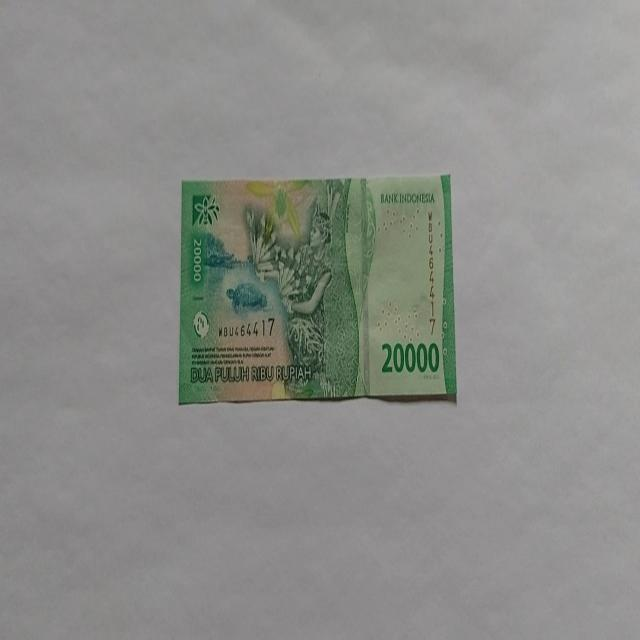dua puluh ribu rupiah: (178, 172, 457, 406), (244, 178, 372, 400)
